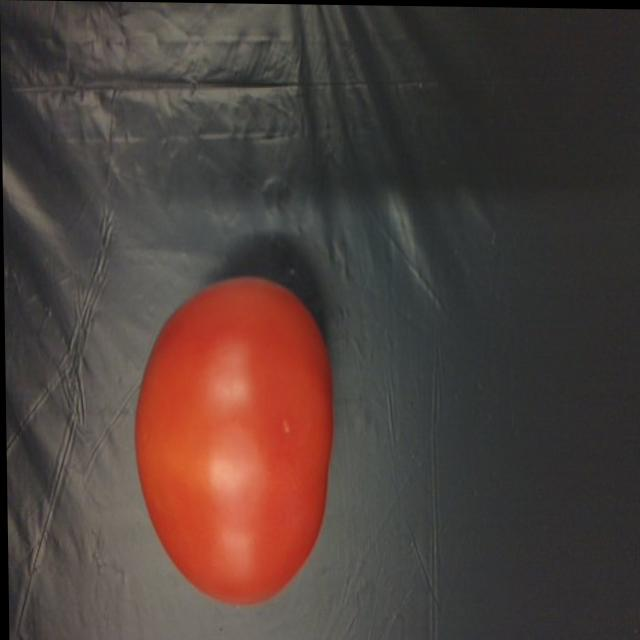kirmizi: (120, 272, 341, 608)
